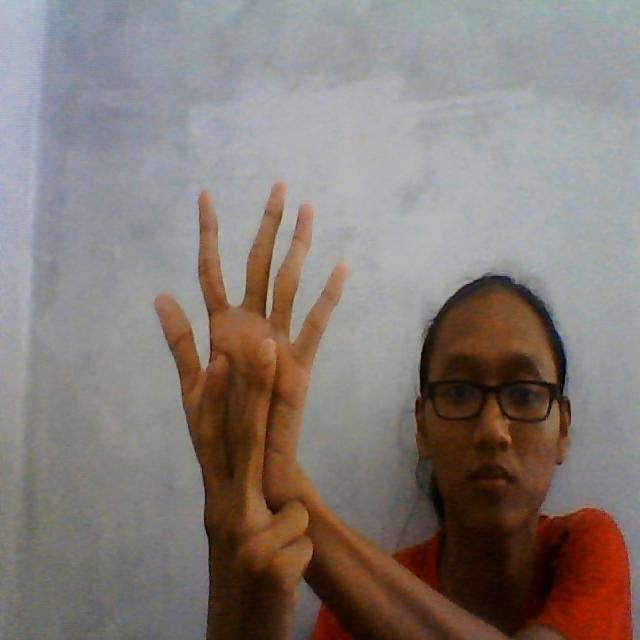N: (146, 168, 348, 545)
